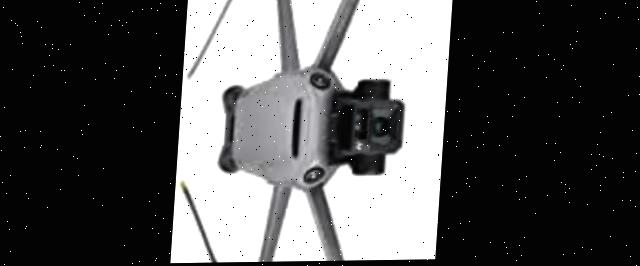drone: (173, 0, 453, 264)
